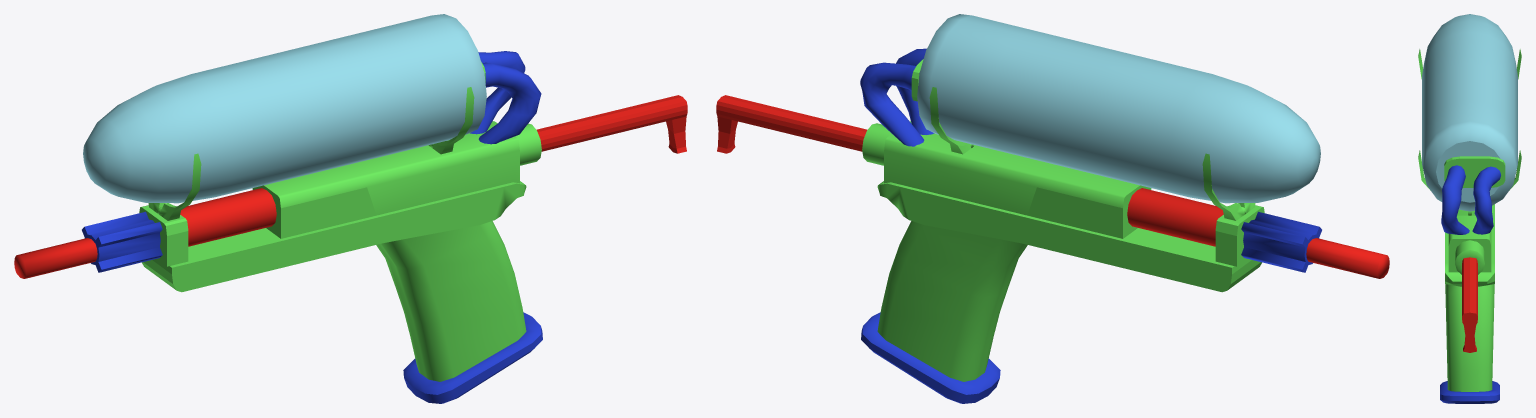
File: water_gun.fbx
3 renders of one model, left to right at view 1: azimuth 30°, elevation 25°; view 2: azimuth 150°, elevation 25°; view 3: azimuth 270°, elevation 25°, orthographic. The views are drawn at different scales.
Visible parts, largest first — view 1: Cylinder.001; view 2: Cylinder.001; view 3: Cylinder.001.
Part boxes in pixels (x1,y1,x2,y2): Cylinder.001: (14,14,687,403); Cylinder.001: (716,14,1389,403); Cylinder.001: (1418,14,1521,403).
Bounding box in the file's own units: 103 × 55.46 × 18.35.
